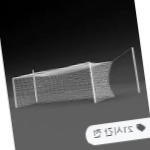goals: (11, 60, 118, 110)
